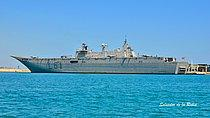MIL_Ship: (8, 35, 189, 74)
